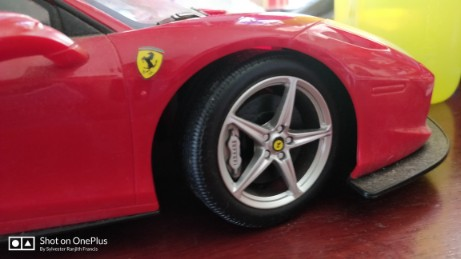unaligned_wheel: (170, 54, 348, 230)
